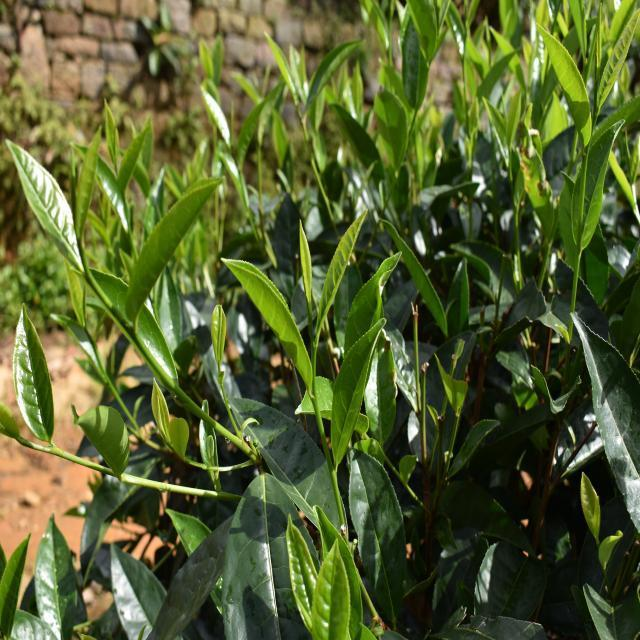Stem: (84, 272, 96, 285), (53, 447, 66, 458), (311, 342, 316, 352)
